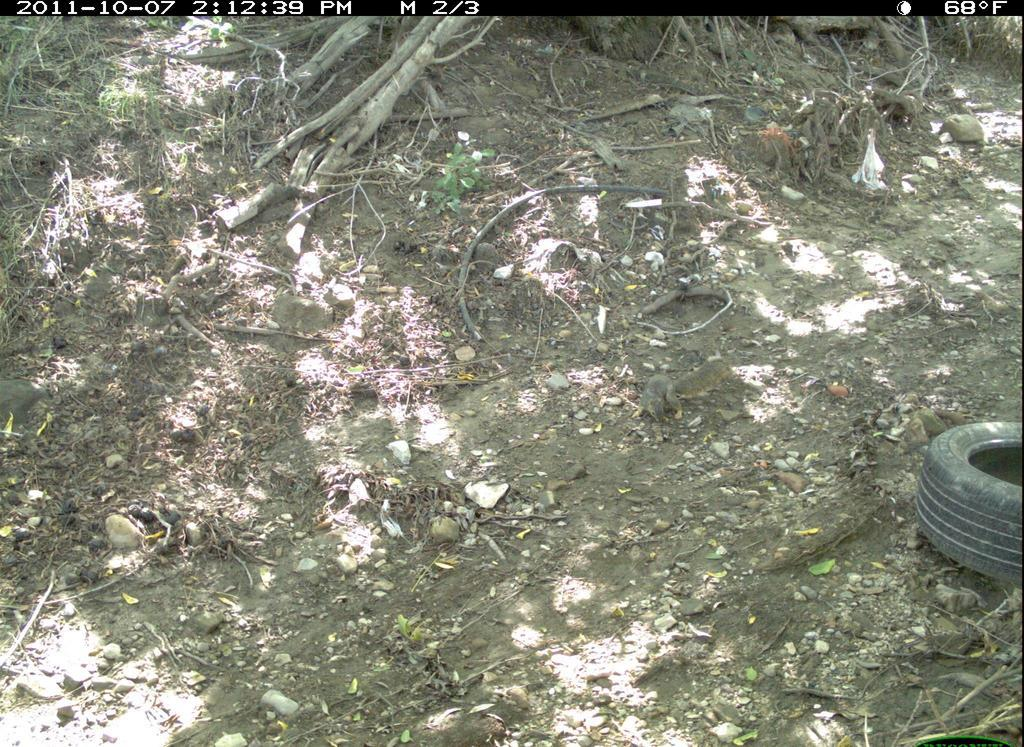squirrel: (638, 361, 728, 431)
